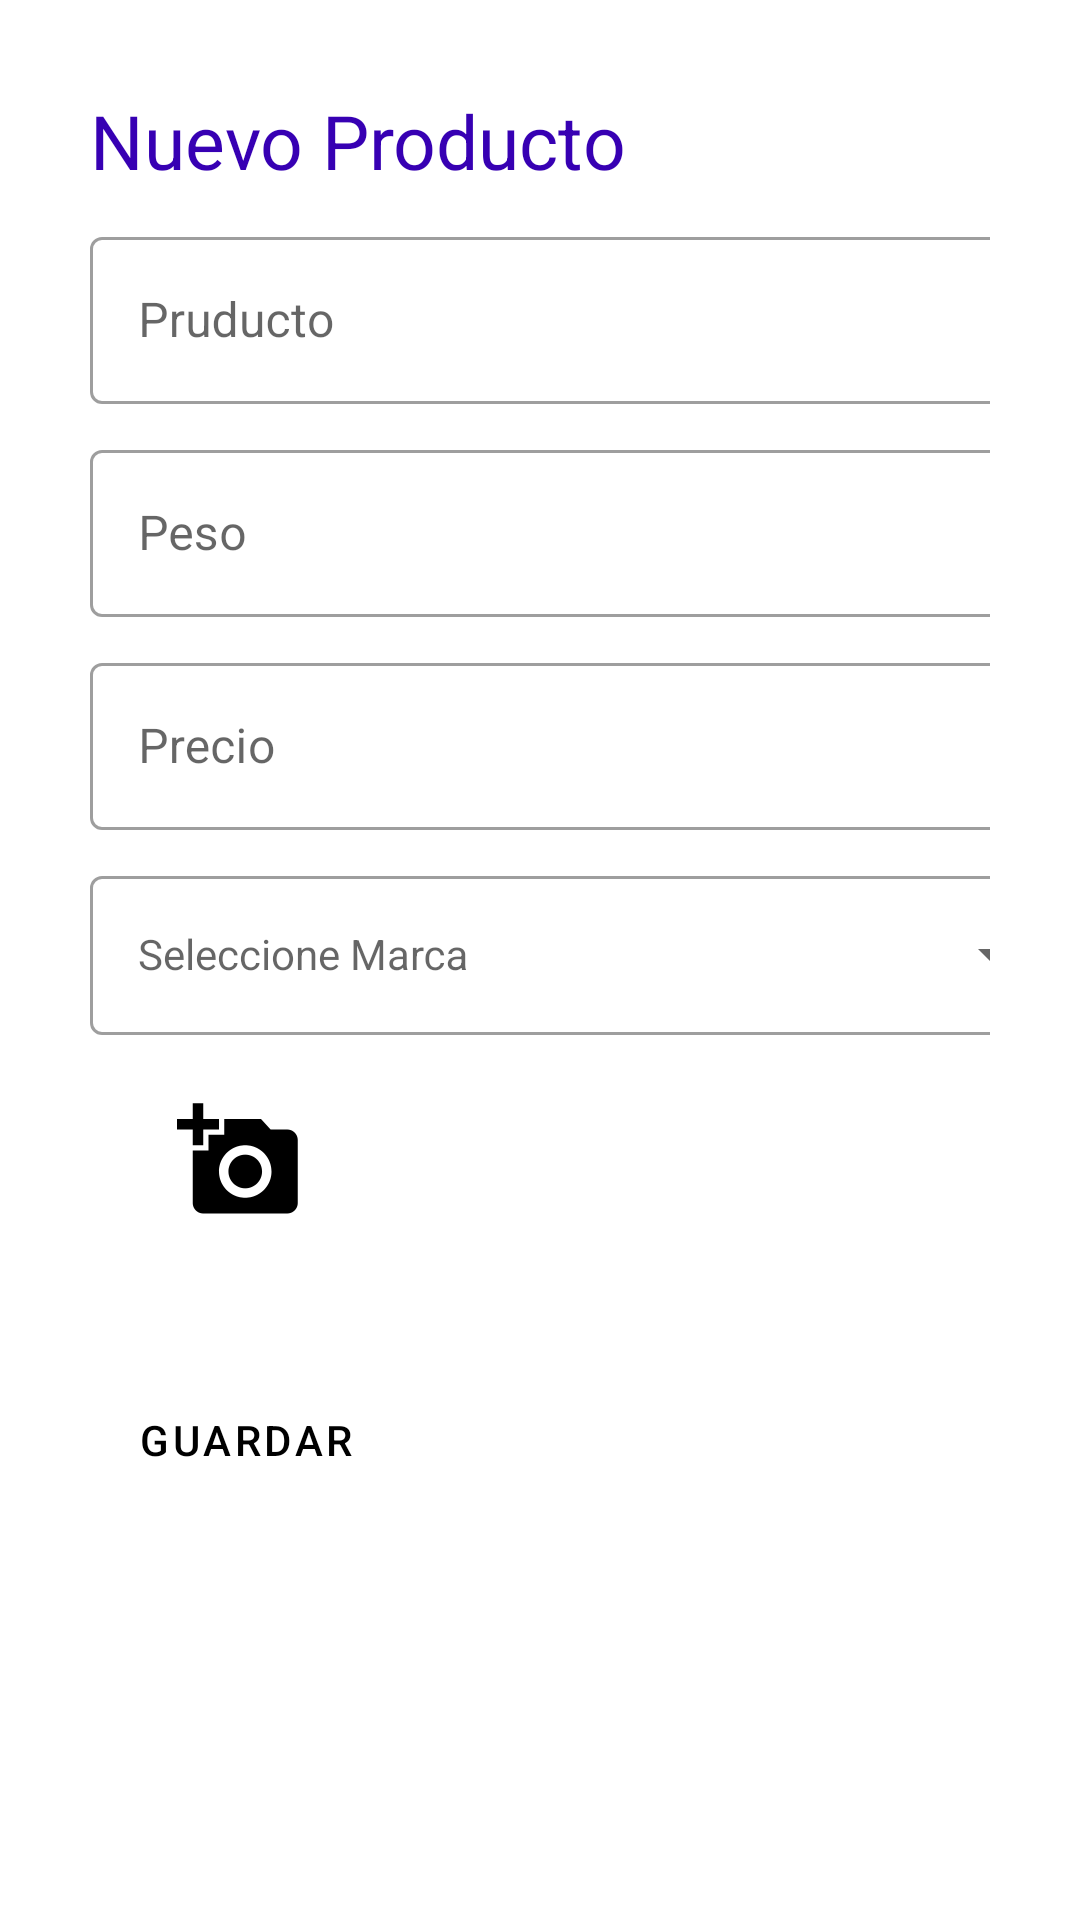

Named icons in this screenshot (1080x1920) and their bounding boxes, (x1, y1, x2, y2):
addphoto: (177, 1103, 298, 1214)
